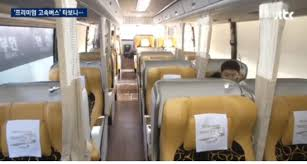seat: (159, 84, 259, 162)
